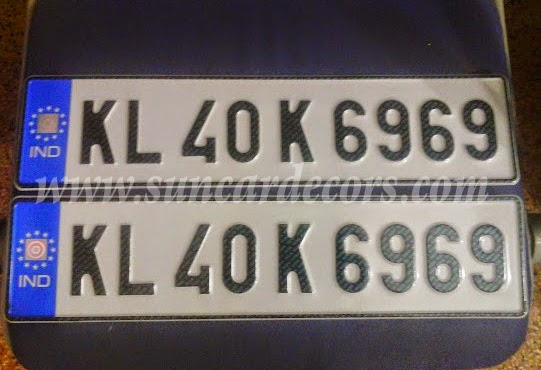inlp: (2, 187, 535, 328), (10, 70, 529, 192)
